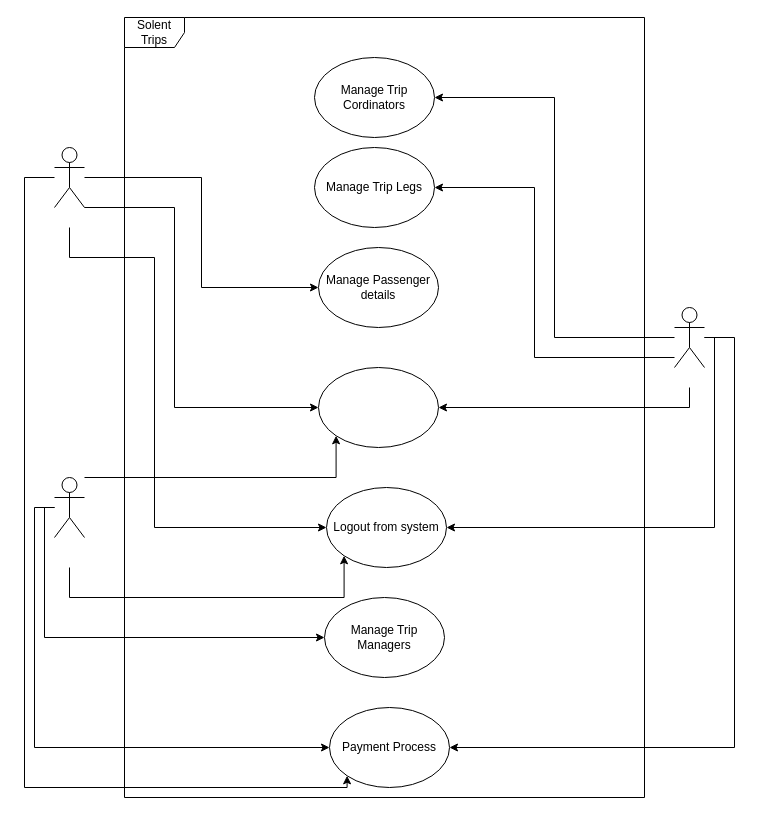
Image size: 760x815. Some labels were removed from this diagram. The shapes that lost their labels are listed below. From the top down, each one's centre as x and y in pixels, then its label:
At [69,177]: "Trip cordinator".
At [689,337]: "Trip Manager".
At [378,407]: "Login to system".
At [69,507]: "Adminstrator".
